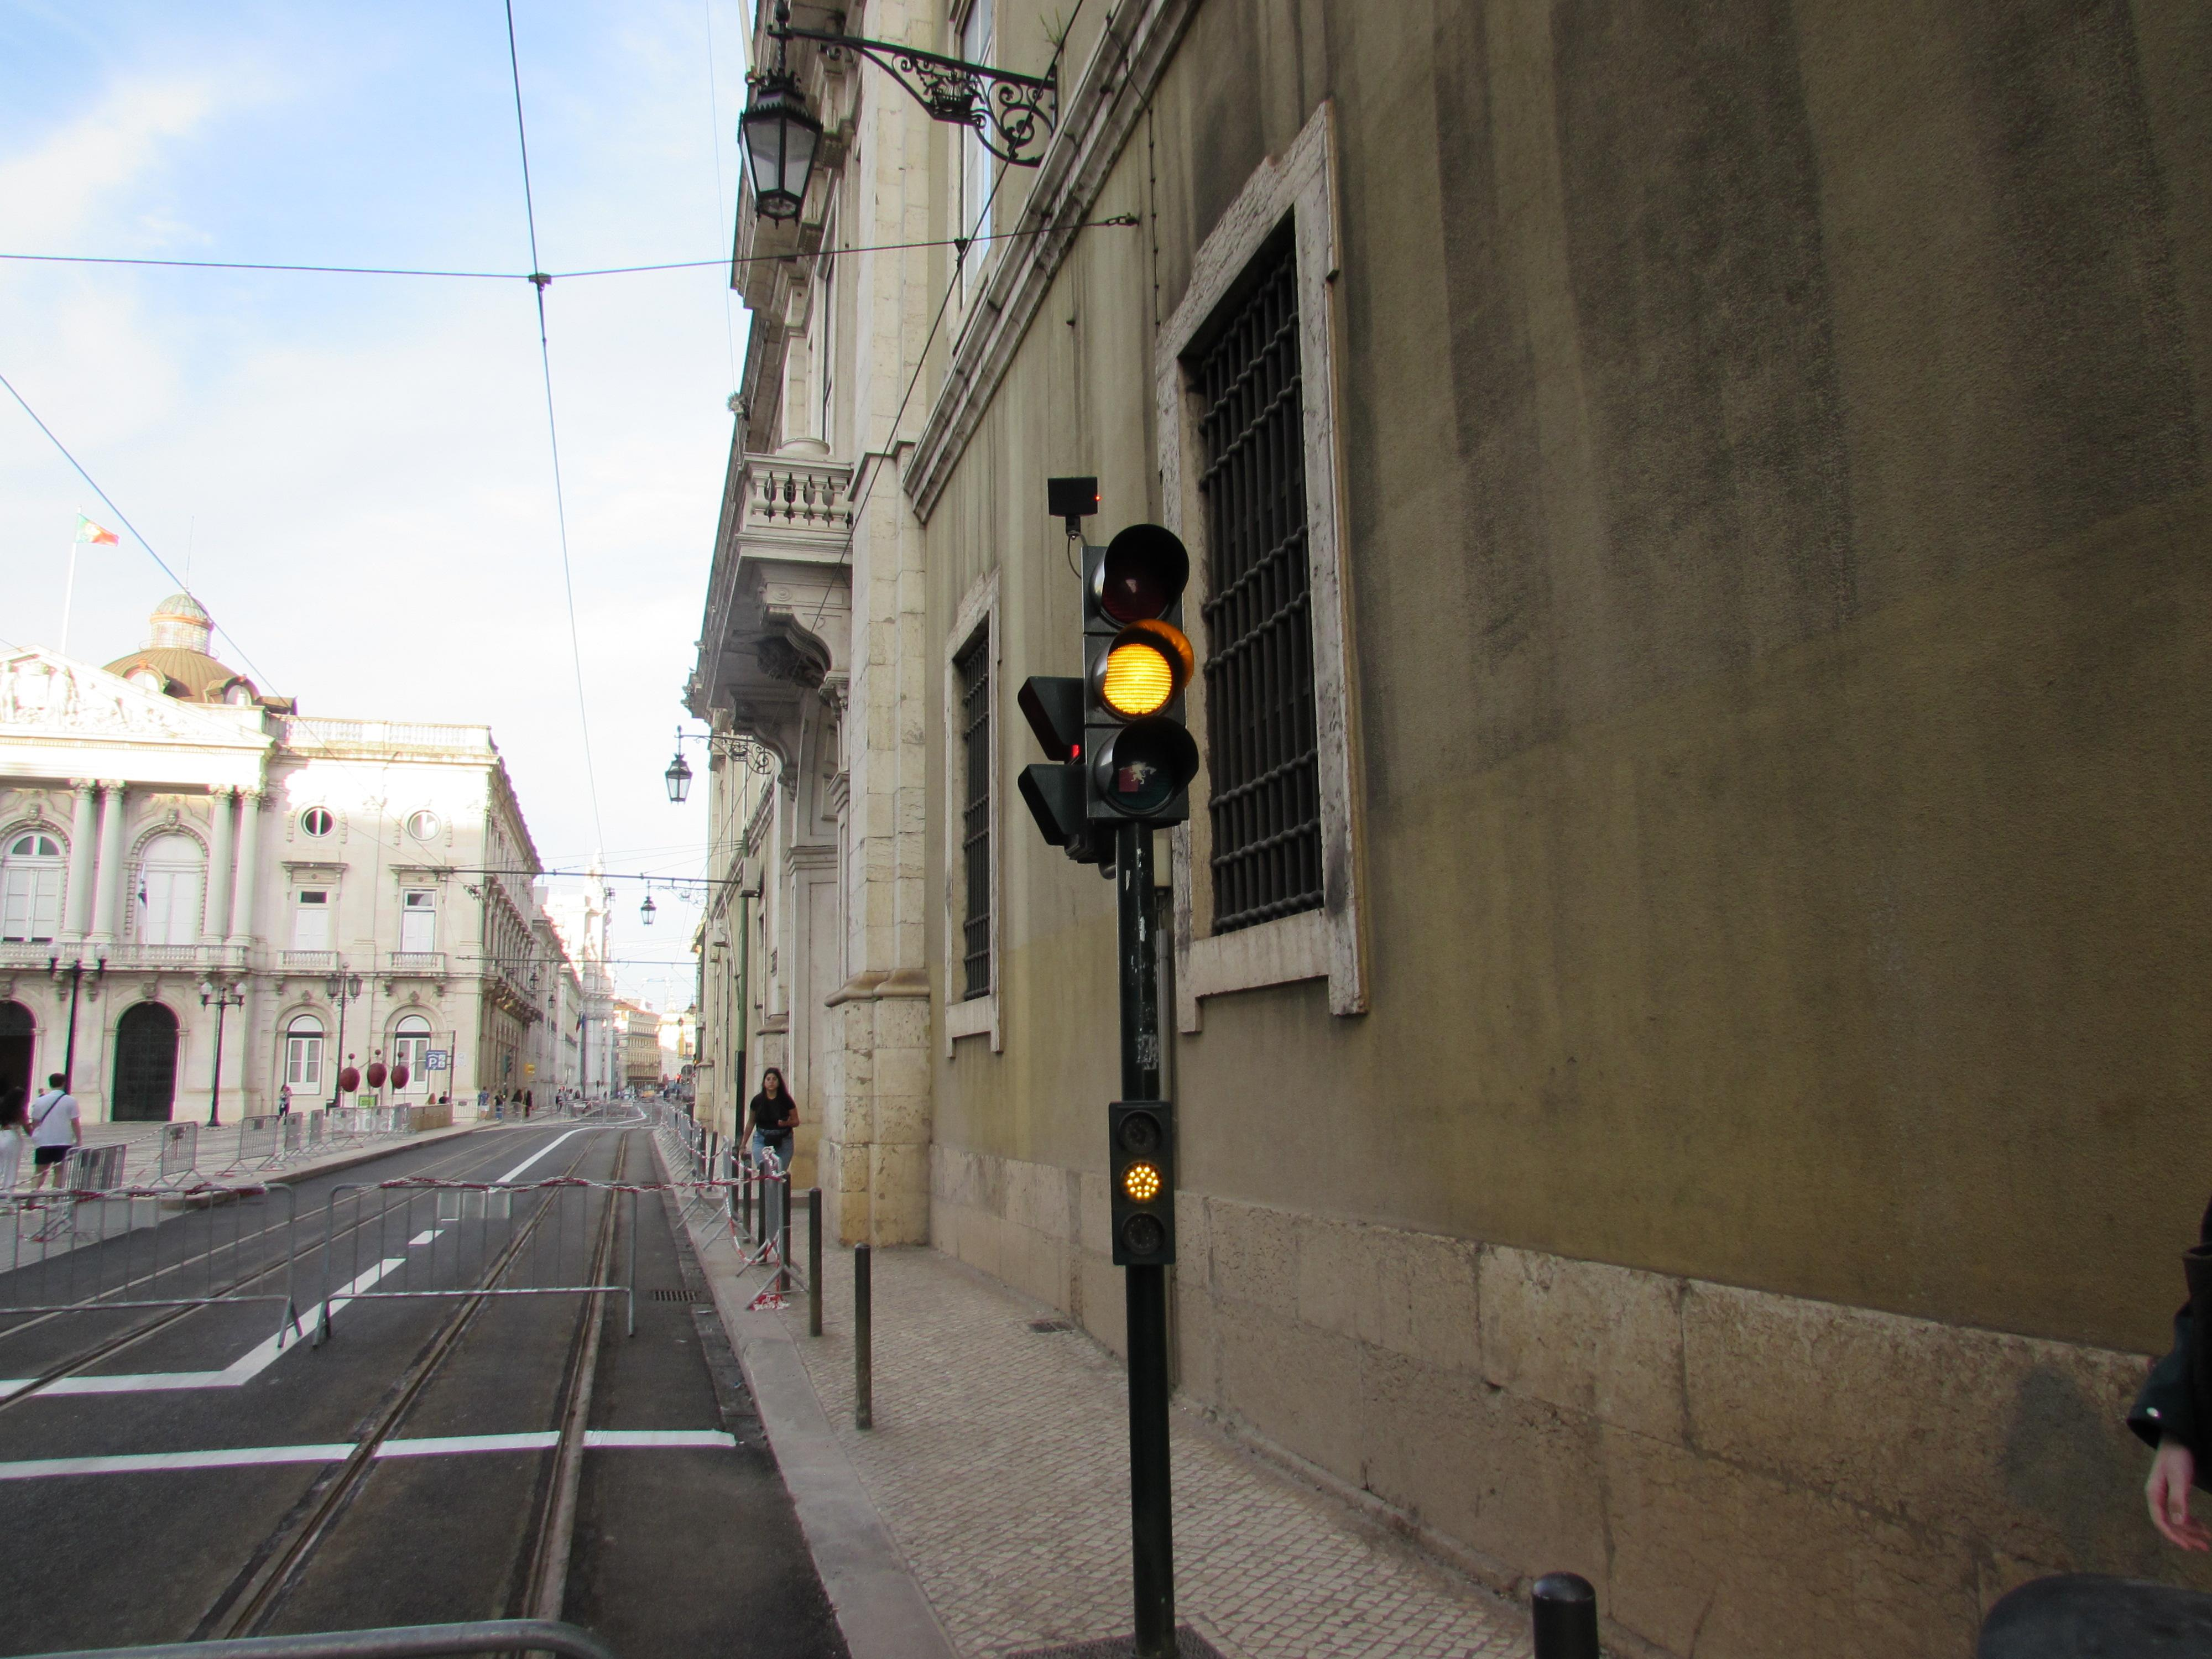yellow_light: (1083, 525, 1200, 821), (1109, 1101, 1176, 1263)
